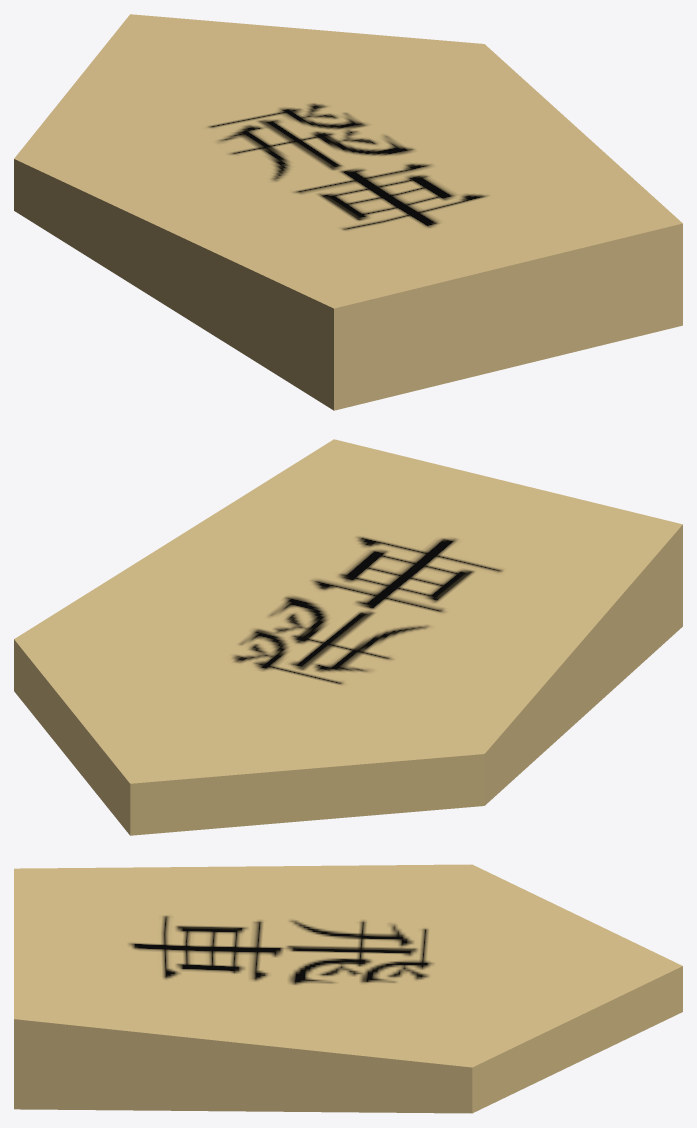
File: piece_hisha.gltf
3 views of the same model, one above another, from view 1: azimuth 30°, elevation 25°; view 2: azimuth 150°, elevation 25°; view 3: azimuth 270°, elevation 25° (orthographic). The views are drawn at different scales.
Visible parts, largest first — view 1: Cube; view 2: Cube; view 3: Cube.
Boxes of the visible parts, x1,y1,x2,y2 form: Cube: (14,14,682,410); Cube: (14,439,682,835); Cube: (14,864,682,1113).
Bounding box in the file's own units: 1.31 × 0.2712 × 1.82.
1 material, 1 textured.
